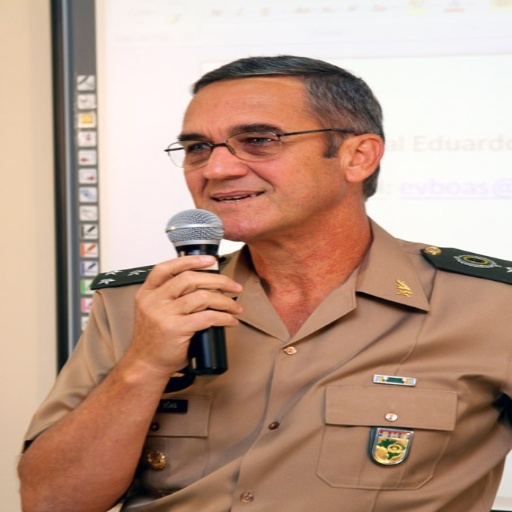hand: (125, 259, 246, 369)
